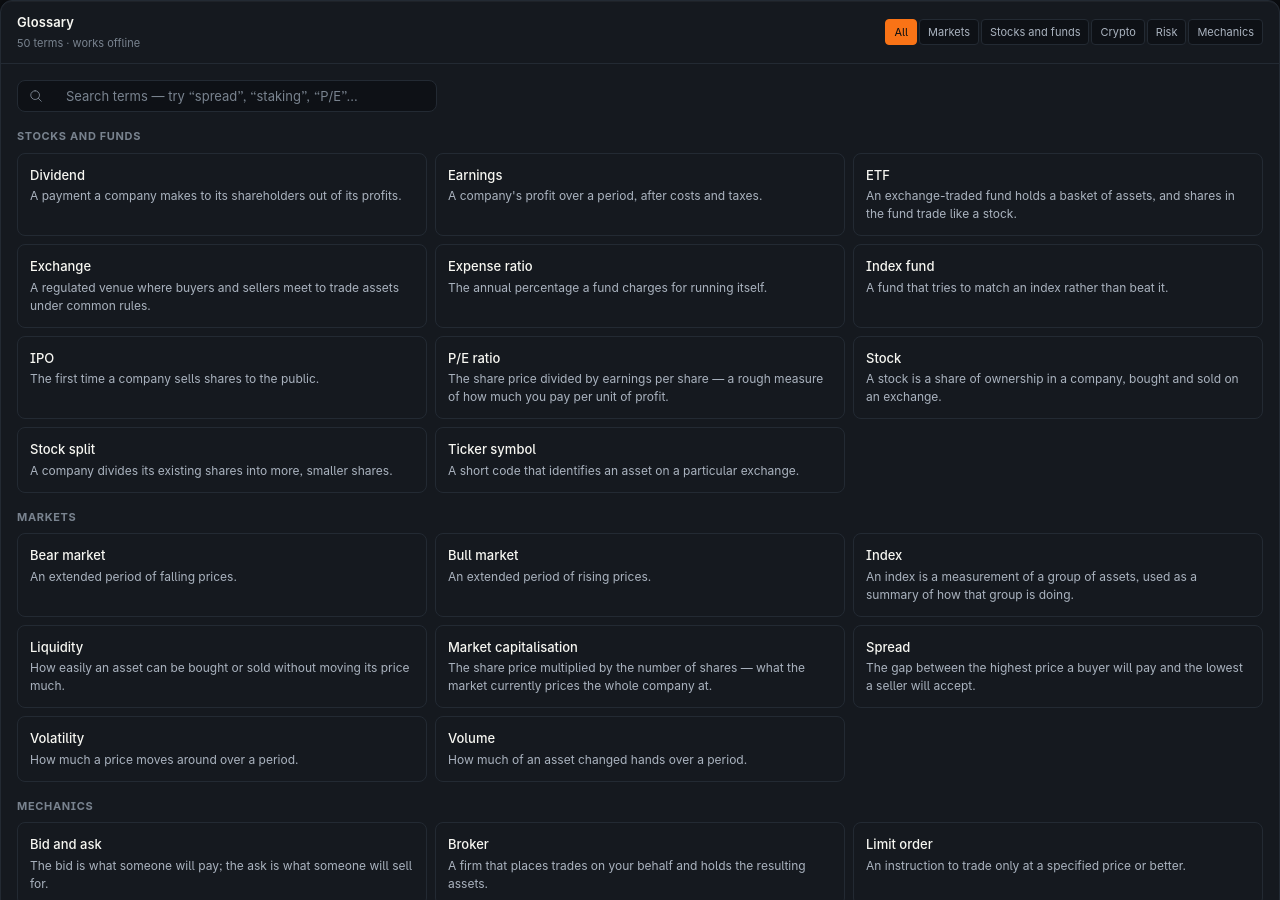
Test: Learn — navigation › filters the glossary as the user types
Type "staking" into the search field named "search the glossary" at coordinates (227, 96), box [17,80,437,112]
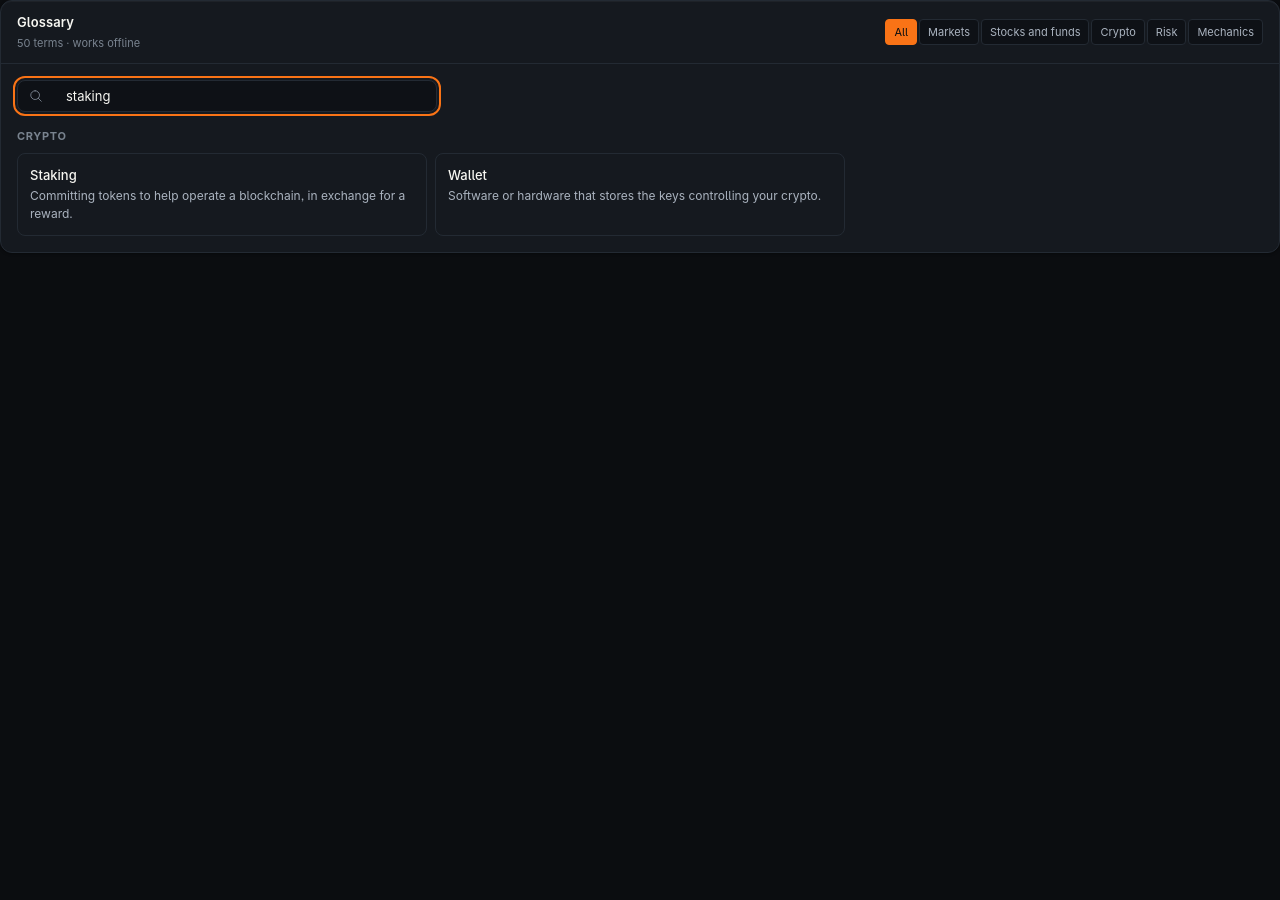
Expected: the link "Staking" is shown, [17,152,427,236]
Result: the link "Dividend" is gone
